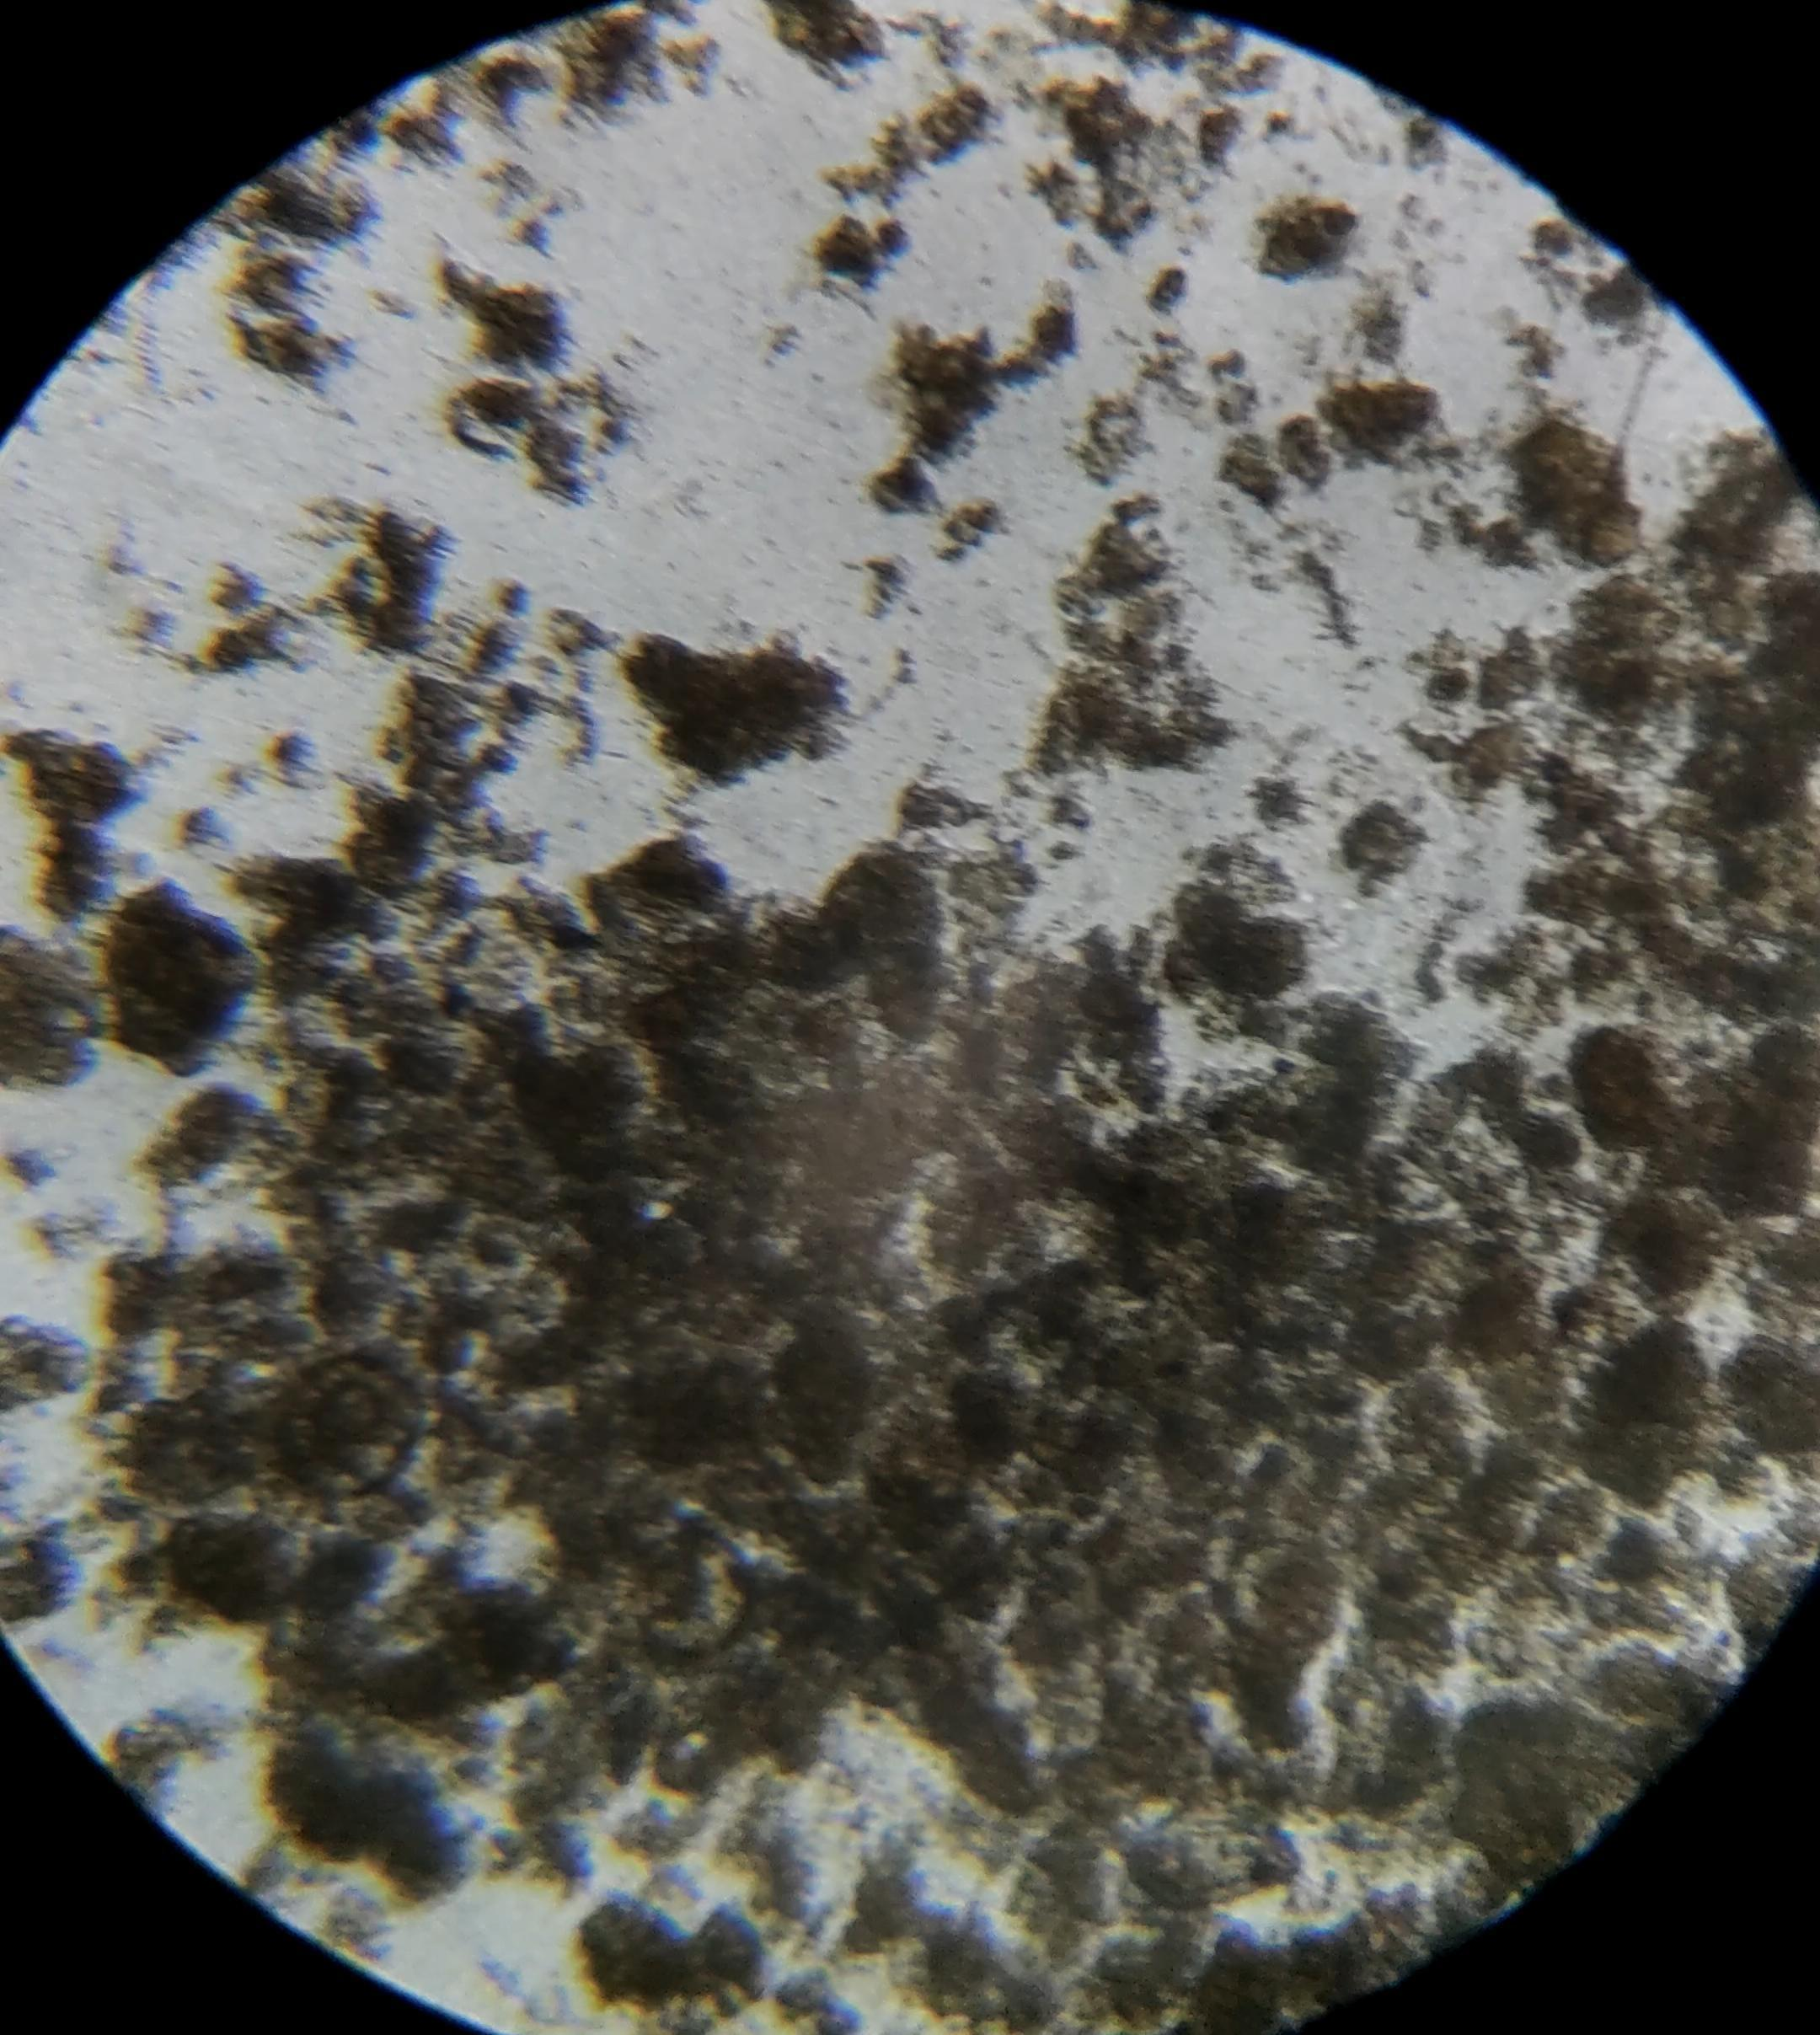Arcella: (286, 1357, 415, 1501), (634, 1531, 748, 1659), (1228, 1538, 1330, 1648)
Mo: (1123, 1801, 1379, 1923)
